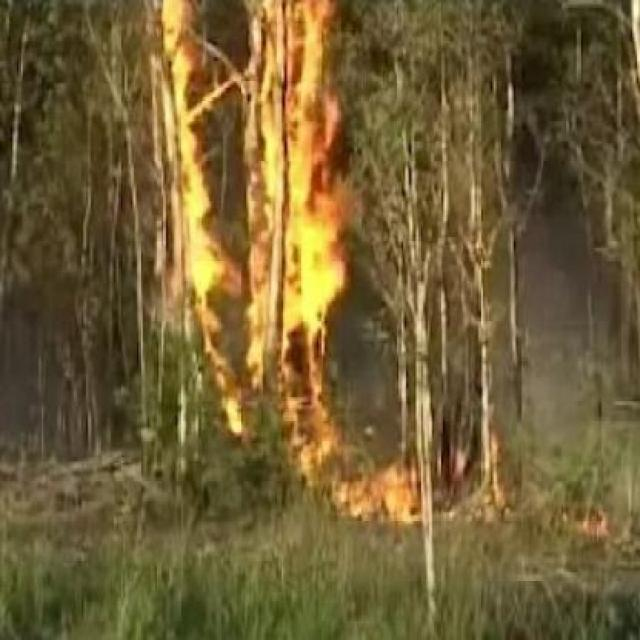Fire: (132, 0, 436, 550)
